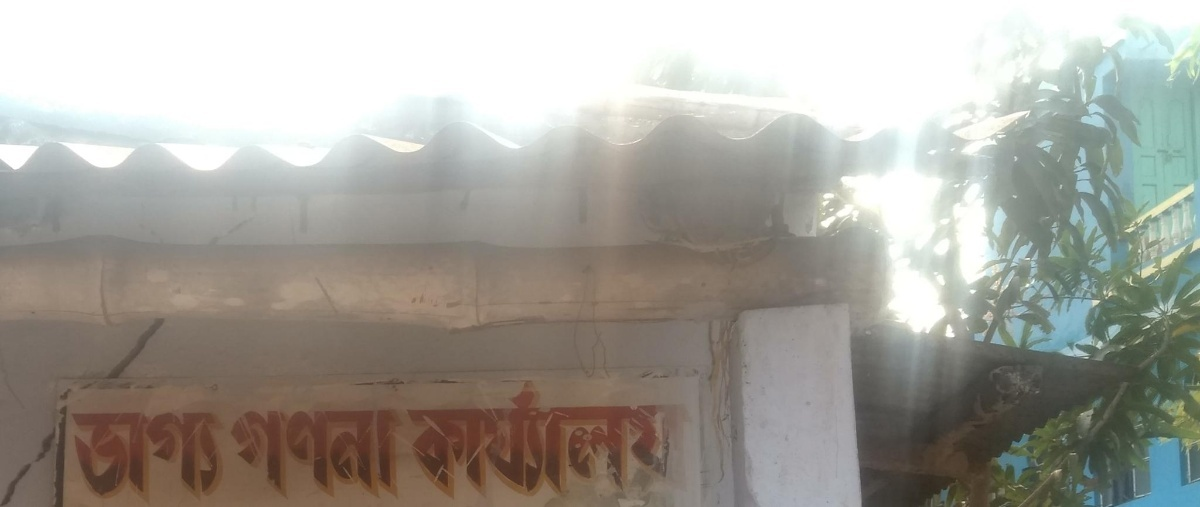text: (417, 364, 432, 506), (433, 364, 448, 506), (449, 364, 464, 506), (465, 364, 480, 506), (481, 364, 496, 506), (497, 364, 512, 506), (513, 364, 528, 506), (529, 364, 544, 506), (545, 364, 560, 506), (561, 364, 576, 506), (577, 364, 592, 506), (593, 364, 608, 506), (609, 364, 624, 506), (625, 364, 640, 506), (641, 364, 656, 506), (657, 364, 672, 506), (673, 364, 687, 506), (404, 364, 416, 506), (81, 407, 96, 504), (97, 407, 112, 504), (113, 407, 128, 504), (129, 407, 144, 504), (145, 407, 160, 504), (161, 407, 176, 504), (177, 407, 192, 504), (193, 407, 208, 504), (209, 407, 224, 504), (241, 404, 256, 501), (257, 404, 272, 501), (273, 404, 288, 501), (289, 404, 304, 501), (305, 404, 320, 501), (321, 404, 336, 501), (337, 404, 352, 501), (353, 404, 368, 501), (369, 404, 384, 501), (385, 404, 400, 501), (67, 407, 80, 504), (227, 404, 240, 501), (401, 404, 409, 501), (225, 407, 232, 504)
